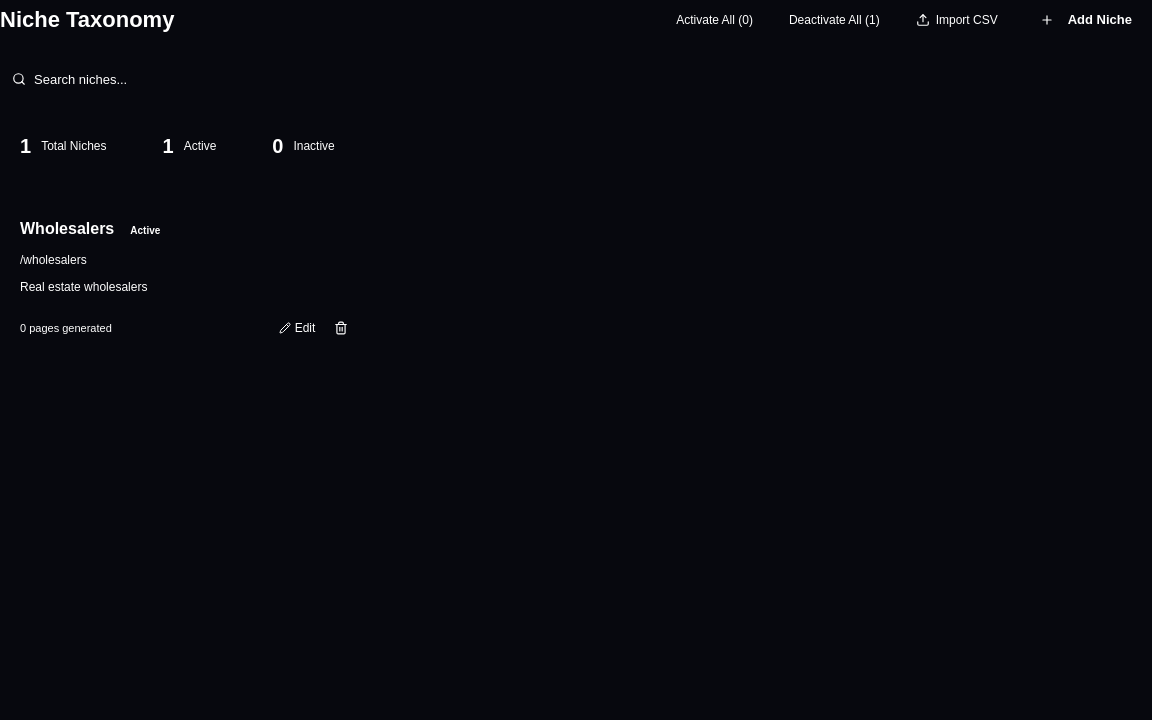
Scenario: NichesManager delete › does not offer Delete when the dependent count fails
Click the button named "Delete Wholesalers". click: (341, 328)
box: [329,316,353,340]
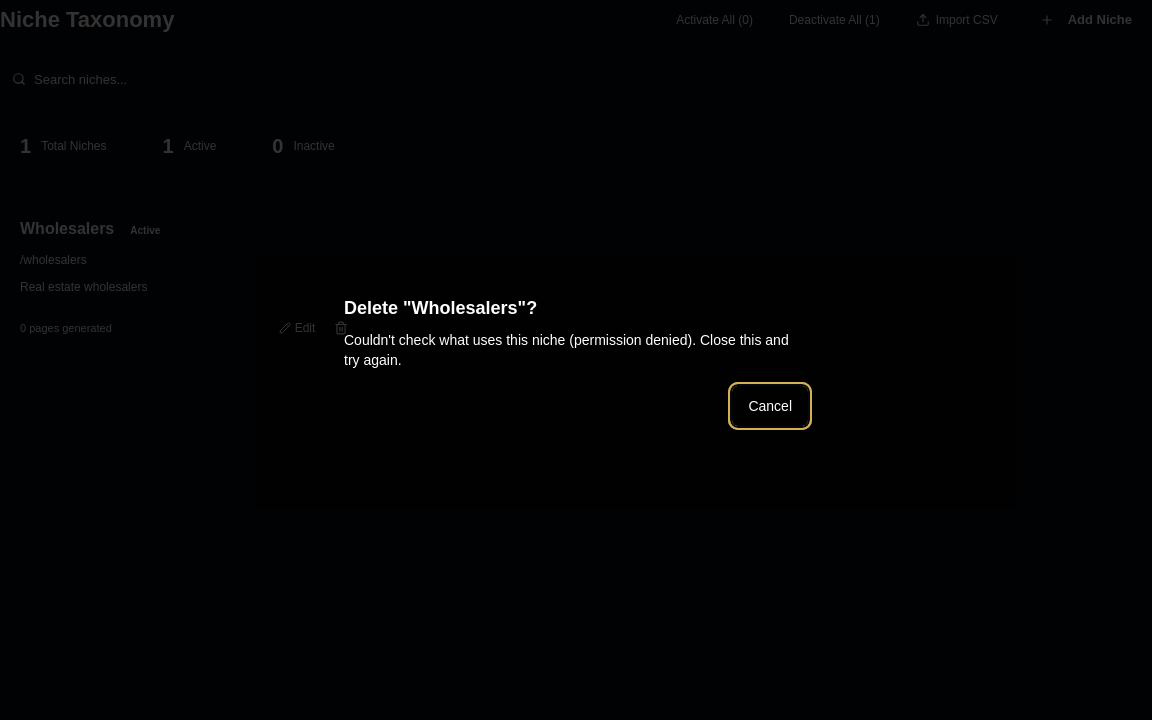
Expected: the text "Couldn't check what uses this niche" is shown, [344,332,789,368]
